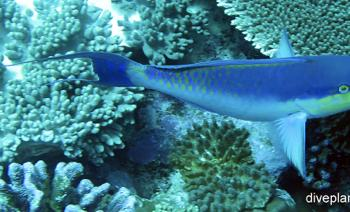Scaridae -Parrotfishes-: (5, 30, 350, 176)
